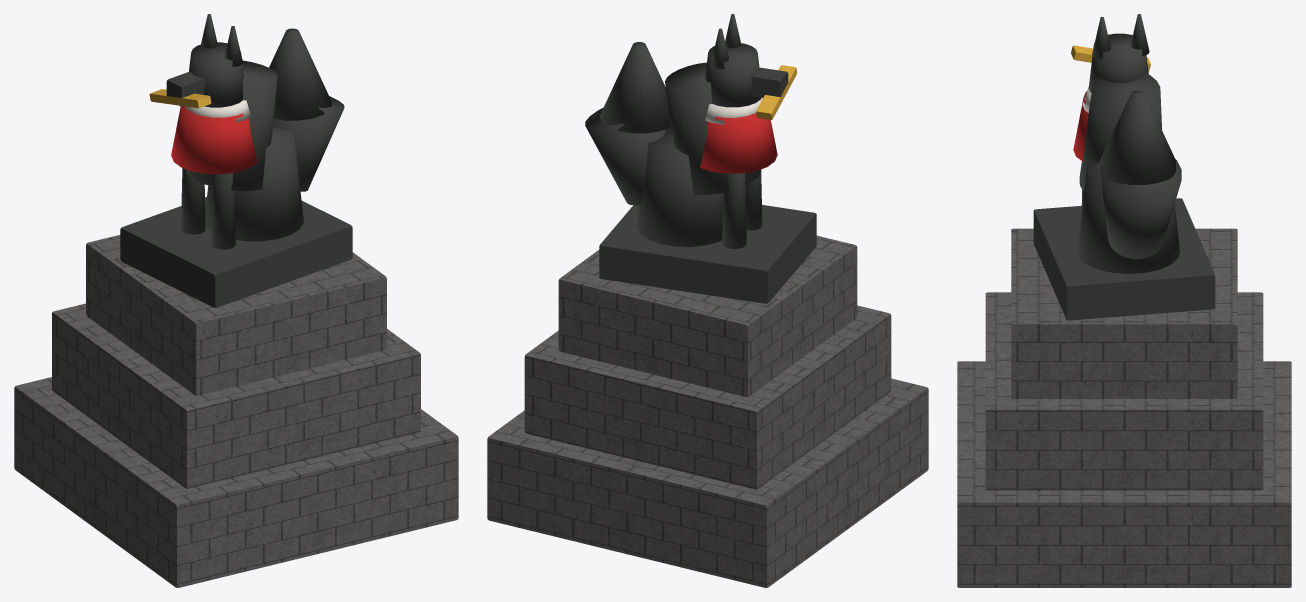
The model's file is Asset_02_Kitsune_Guardian_Key.glb.
3 renders of one model, left to right at view 1: azimuth 30°, elevation 25°; view 2: azimuth 150°, elevation 25°; view 3: azimuth 270°, elevation 25°, orthographic. The views are drawn at different scales.
Visible parts, largest first — view 1: Z01_Kitsune_North_Key_Pedestal_Tier1, Z01_Kitsune_North_Key_Pedestal_Tier2, Z01_Kitsune_North_Key_Pedestal_Tier3, Z01_Kitsune_North_Key_Bronze_Plinth, Z01_Kitsune_North_Key_Haunches, Z01_Kitsune_North_Key_Red_Bib, Z01_Kitsune_North_Key_Tail_Tip, Z01_Kitsune_North_Key_Chest, Z01_Kitsune_North_Key_Tail_Base, Z01_Kitsune_North_Key_Head, Z01_Kitsune_North_Key_FrontLeg_0.14, Z01_Kitsune_North_Key_FrontLeg_-0.14 (+3 smaller); view 2: Z01_Kitsune_North_Key_Pedestal_Tier1, Z01_Kitsune_North_Key_Pedestal_Tier2, Z01_Kitsune_North_Key_Pedestal_Tier3, Z01_Kitsune_North_Key_Bronze_Plinth, Z01_Kitsune_North_Key_Haunches, Z01_Kitsune_North_Key_Chest, Z01_Kitsune_North_Key_Tail_Tip, Z01_Kitsune_North_Key_Red_Bib, Z01_Kitsune_North_Key_Tail_Base, Z01_Kitsune_North_Key_Head, Z01_Kitsune_North_Key_FrontLeg_-0.14, Z01_Kitsune_North_Key_Snout (+3 smaller); view 3: Z01_Kitsune_North_Key_Pedestal_Tier1, Z01_Kitsune_North_Key_Pedestal_Tier2, Z01_Kitsune_North_Key_Pedestal_Tier3, Z01_Kitsune_North_Key_Bronze_Plinth, Z01_Kitsune_North_Key_Tail_Base, Z01_Kitsune_North_Key_Tail_Tip, Z01_Kitsune_North_Key_Haunches, Z01_Kitsune_North_Key_Chest, Z01_Kitsune_North_Key_Head, Z01_Kitsune_North_Key_Red_Bib, Z01_Kitsune_North_Key_Ear_0.11, Z01_Kitsune_North_Key_Ear_-0.11.
Boxes of the visible parts, x1,y1,x2,y2 form: Z01_Kitsune_North_Key_Pedestal_Tier1: (14, 377, 458, 587); Z01_Kitsune_North_Key_Pedestal_Tier2: (52, 303, 420, 488); Z01_Kitsune_North_Key_Pedestal_Tier3: (86, 235, 386, 395); Z01_Kitsune_North_Key_Bronze_Plinth: (120, 197, 352, 307); Z01_Kitsune_North_Key_Haunches: (205, 126, 303, 241); Z01_Kitsune_North_Key_Red_Bib: (171, 106, 257, 174); Z01_Kitsune_North_Key_Tail_Tip: (269, 28, 332, 120); Z01_Kitsune_North_Key_Chest: (186, 60, 277, 191); Z01_Kitsune_North_Key_Tail_Base: (273, 96, 344, 191); Z01_Kitsune_North_Key_Head: (189, 42, 243, 107); Z01_Kitsune_North_Key_FrontLeg_0.14: (211, 173, 235, 249); Z01_Kitsune_North_Key_FrontLeg_-0.14: (181, 168, 205, 234); Z01_Kitsune_North_Key_Pedestal_Tier1: (487, 378, 928, 587); Z01_Kitsune_North_Key_Pedestal_Tier2: (524, 305, 891, 489); Z01_Kitsune_North_Key_Pedestal_Tier3: (558, 235, 857, 396); Z01_Kitsune_North_Key_Bronze_Plinth: (599, 205, 816, 303); Z01_Kitsune_North_Key_Haunches: (636, 127, 723, 246); Z01_Kitsune_North_Key_Chest: (665, 62, 760, 195); Z01_Kitsune_North_Key_Tail_Tip: (599, 42, 671, 133); Z01_Kitsune_North_Key_Red_Bib: (699, 98, 777, 173); Z01_Kitsune_North_Key_Tail_Base: (585, 107, 665, 205); Z01_Kitsune_North_Key_Head: (705, 43, 761, 107); Z01_Kitsune_North_Key_FrontLeg_-0.14: (722, 173, 746, 248); Z01_Kitsune_North_Key_Snout: (751, 67, 788, 97); Z01_Kitsune_North_Key_Pedestal_Tier1: (957, 361, 1291, 587); Z01_Kitsune_North_Key_Pedestal_Tier2: (985, 292, 1263, 490); Z01_Kitsune_North_Key_Pedestal_Tier3: (1011, 228, 1237, 398); Z01_Kitsune_North_Key_Bronze_Plinth: (1033, 198, 1215, 320); Z01_Kitsune_North_Key_Tail_Base: (1101, 159, 1181, 259); Z01_Kitsune_North_Key_Tail_Tip: (1097, 90, 1175, 184); Z01_Kitsune_North_Key_Haunches: (1077, 158, 1179, 273); Z01_Kitsune_North_Key_Chest: (1079, 73, 1161, 192); Z01_Kitsune_North_Key_Head: (1088, 33, 1148, 92); Z01_Kitsune_North_Key_Red_Bib: (1073, 91, 1088, 162); Z01_Kitsune_North_Key_Ear_0.11: (1092, 17, 1110, 59); Z01_Kitsune_North_Key_Ear_-0.11: (1130, 14, 1149, 55).
Bounding box in the file's own units: 1.95 × 3.17 × 1.95.
Materials: 5 (2 with a texture image).
